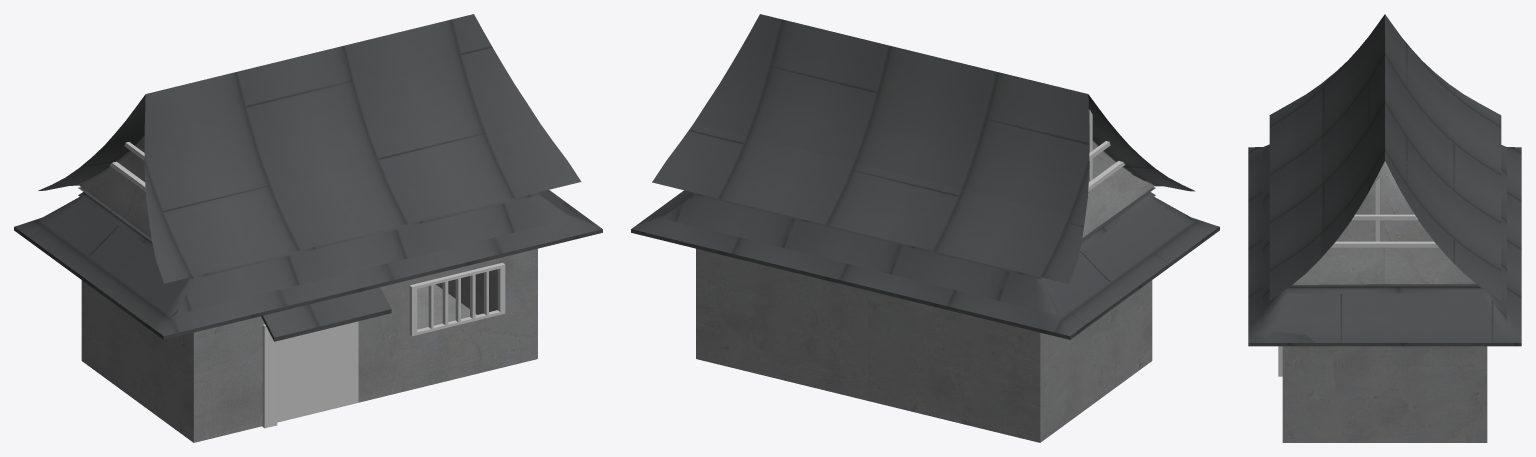
The model's file is villagehouse.fbx.
3 views of the same model, side by side, from view 1: azimuth 30°, elevation 25°; view 2: azimuth 150°, elevation 25°; view 3: azimuth 270°, elevation 25° (orthographic). The views are drawn at different scales.
Parts seen in each view (by area): view 1: Roof, Roof1, Wall, Door, Window, RoofWall, DoorSill; view 2: Roof, Wall, Roof1, RoofWall, Rooftile; view 3: Roof, Roof1, Wall, RoofWall, Rooftile.
Part boxes in pixels (x1,y1,x2,y2): Roof: (38,14,581,283); Roof1: (14,187,602,341); Wall: (81,248,537,442); Door: (277,321,358,422); Window: (409,263,505,336); RoofWall: (76,136,151,238); DoorSill: (262,324,277,428); Roof: (652,14,1195,283); Wall: (696,248,1152,442); Roof1: (631,187,1219,339); RoofWall: (1082,139,1157,238); Rooftile: (1088,109,1124,191); Roof: (1269,14,1501,300); Roof1: (1248,144,1521,346); Wall: (1282,346,1487,442); RoofWall: (1292,161,1476,284); Rooftile: (1331,176,1438,247).
Size of the model in its own units: 466 by 311 by 275.
